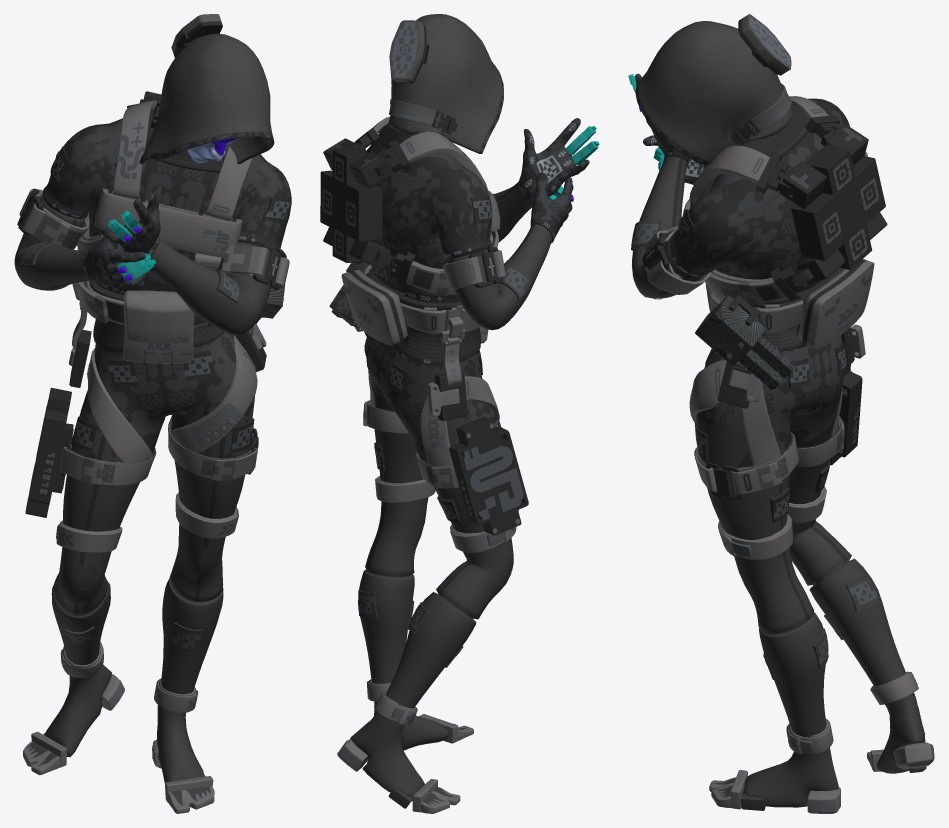
The model's file is shadow_index.glb.
The picture shows the model from 3 angles, left to right: view 1: azimuth 30°, elevation 25°; view 2: azimuth 150°, elevation 25°; view 3: azimuth 270°, elevation 25°; orthographic projection. The views are drawn at different scales.
Parts seen in each view (by area): view 1: legs1, body_torso1, hood1, upper_arm_strapsarms1, straps_crotch1, harness_straps1, strap_chest1, straps_mid1, hands1, satchel_flap1, legs_kicks1, holster1 (+22 smaller); view 2: legs1, body_torso1, hood1, upper_arm_strapsarms1, holster1, backpack_main1, hands1, rear_fanny_pack1, harness_straps1, decals_holster1, legs_kicks1, waist_pad1 (+20 smaller); view 3: legs1, hood1, body_torso1, backpack_main1, harness_straps1, rear_fanny_pack1, upper_arm_strapsarms1, backpack_corners1, straps_crotch1, legs_kicks1, straps_mid1, patches1 (+19 smaller).
Part boxes in pixels (<box>): legs1: <box>45,332,254,783</box>; body_torso1: <box>42,118,291,294</box>; hood1: <box>140,33,273,164</box>; upper_arm_strapsarms1: <box>14,196,271,335</box>; straps_crotch1: <box>87,335,257,462</box>; harness_straps1: <box>77,100,252,270</box>; strap_chest1: <box>94,188,242,257</box>; straps_mid1: <box>60,415,257,485</box>; hands1: <box>83,185,161,288</box>; satchel_flap1: <box>125,290,193,343</box>; legs_kicks1: <box>23,674,214,813</box>; holster1: <box>25,387,71,517</box>; legs1: <box>350,339,513,801</box>; body_torso1: <box>366,140,492,303</box>; hood1: <box>388,14,502,153</box>; upper_arm_strapsarms1: <box>447,181,552,330</box>; holster1: <box>449,416,528,535</box>; backpack_main1: <box>320,147,382,262</box>; hands1: <box>519,118,589,243</box>; rear_fanny_pack1: <box>341,269,407,345</box>; harness_straps1: <box>373,116,498,295</box>; decals_holster1: <box>460,423,523,533</box>; legs_kicks1: <box>337,714,473,813</box>; waist_pad1: <box>369,268,481,365</box>; legs1: <box>696,335,925,807</box>; hood1: <box>637,21,792,163</box>; body_torso1: <box>670,98,849,293</box>; backpack_main1: <box>791,144,885,269</box>; harness_straps1: <box>689,96,828,304</box>; rear_fanny_pack1: <box>798,259,874,349</box>; upper_arm_strapsarms1: <box>631,156,702,298</box>; backpack_corners1: <box>779,124,887,284</box>; straps_crotch1: <box>690,360,842,465</box>; legs_kicks1: <box>709,742,934,813</box>; straps_mid1: <box>694,416,844,494</box>; patches1: <box>694,343,879,679</box>.
Bounding box in the file's own units: 0.5538 × 1.82 × 0.6359.
10 materials, 9 textured.
